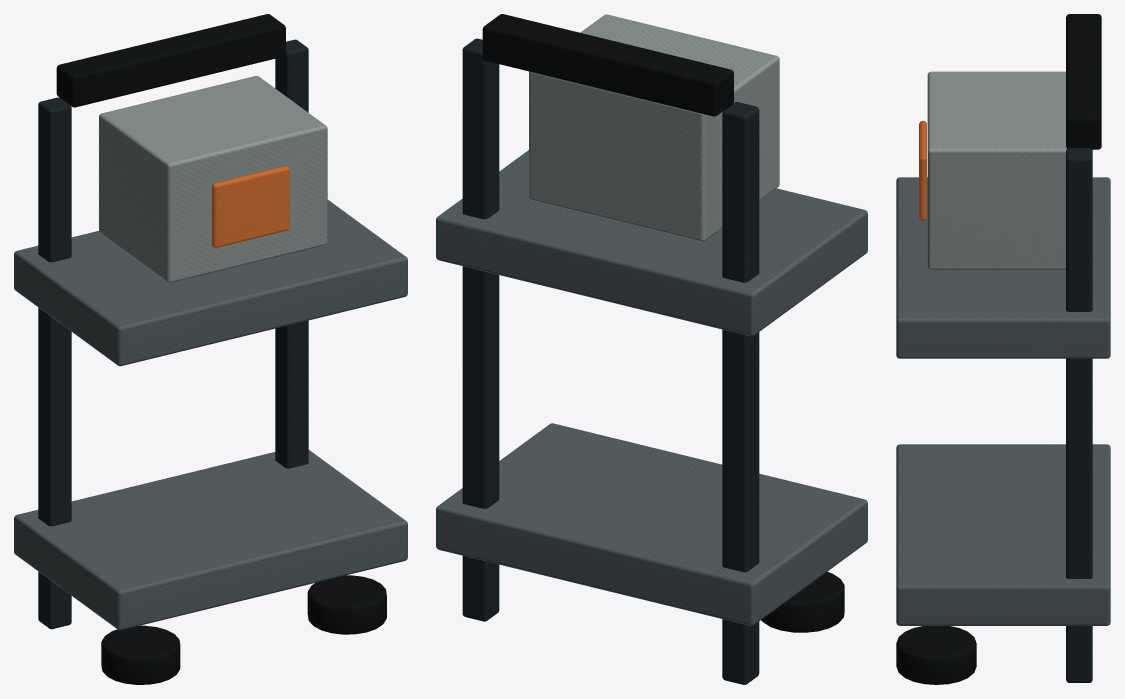
File: MedicalSupplyTrolley.glb
3 views of the same model, side by side, from view 1: azimuth 30°, elevation 25°; view 2: azimuth 150°, elevation 25°; view 3: azimuth 270°, elevation 25° (orthographic). The views are drawn at different scales.
Parts seen in each view (by area): view 1: MedicalSupplyTrolley_Mesh; view 2: MedicalSupplyTrolley_Mesh; view 3: MedicalSupplyTrolley_Mesh.
Boxes of the visible parts, x1,y1,x2,y2 form: MedicalSupplyTrolley_Mesh: (14, 14, 407, 684); MedicalSupplyTrolley_Mesh: (436, 14, 867, 684); MedicalSupplyTrolley_Mesh: (896, 14, 1110, 684).
Size of the model in its own units: 0.76 by 1.37 by 0.48.
Materials: 5 (5 with a texture image).
